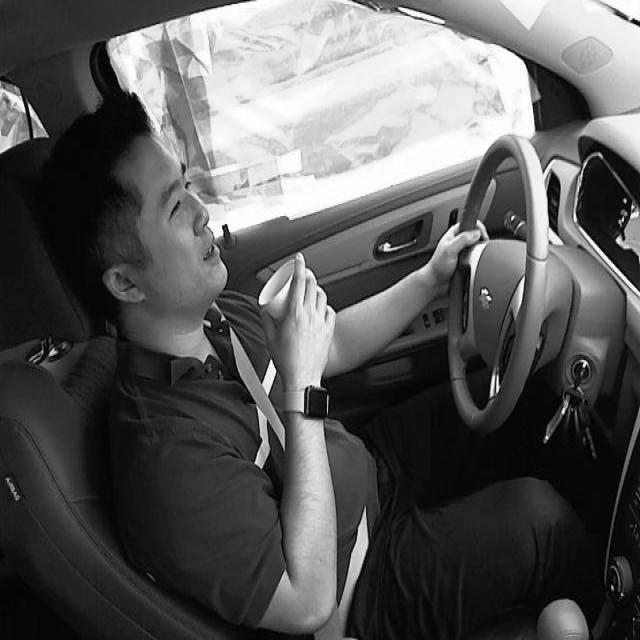drinking: (258, 255, 332, 344)
